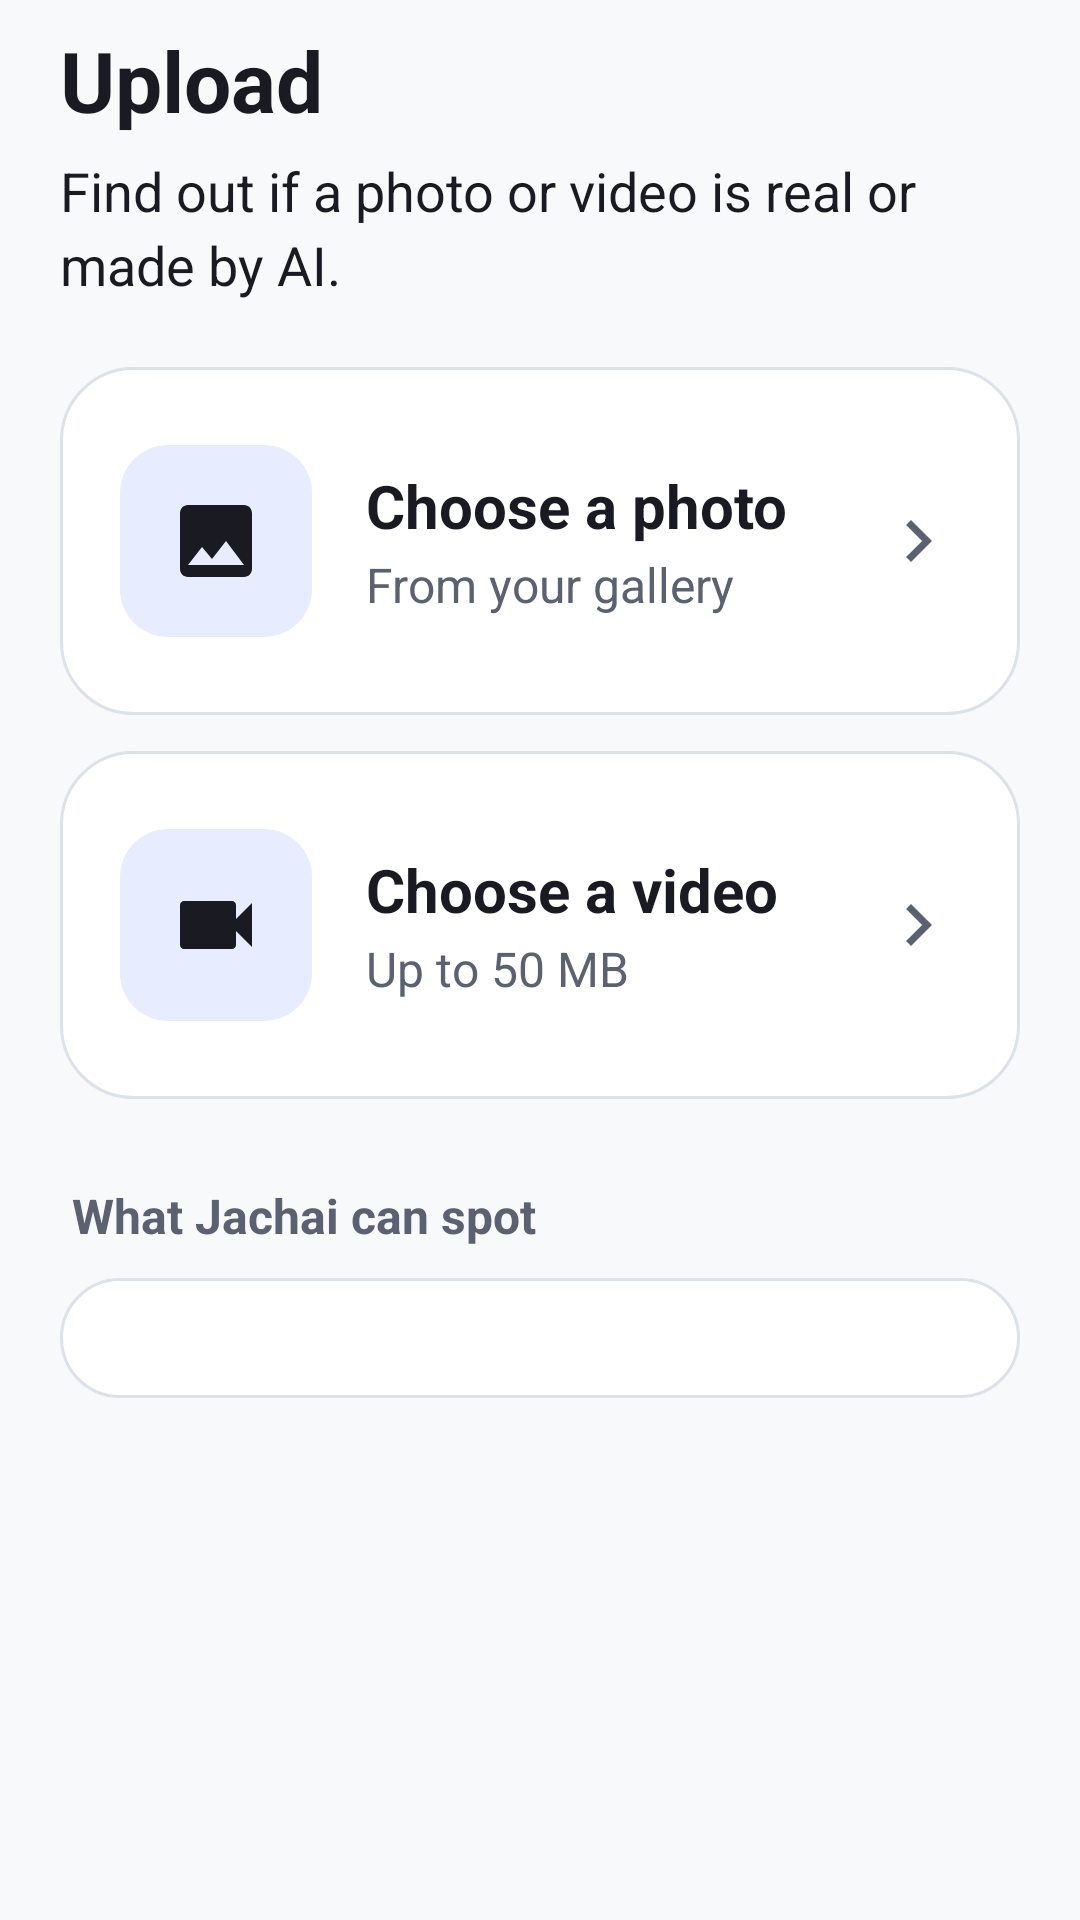

Screen size 1080px x 1920px. Icon name, then its center in pixels as (x=x, y=y):
chevron right: (x=919, y=541), (x=919, y=925)
